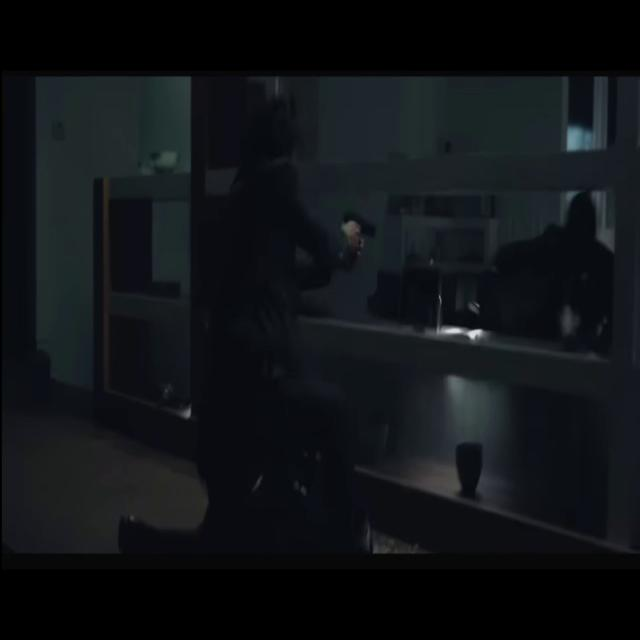weapons: (332, 194, 384, 279)
